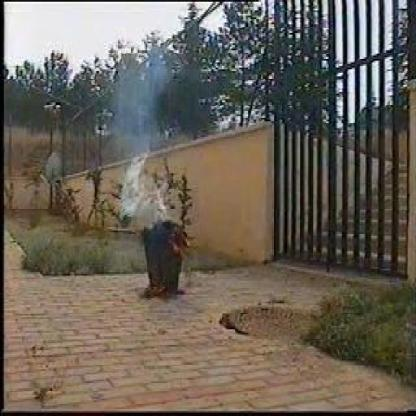-: (113, 44, 172, 216)
